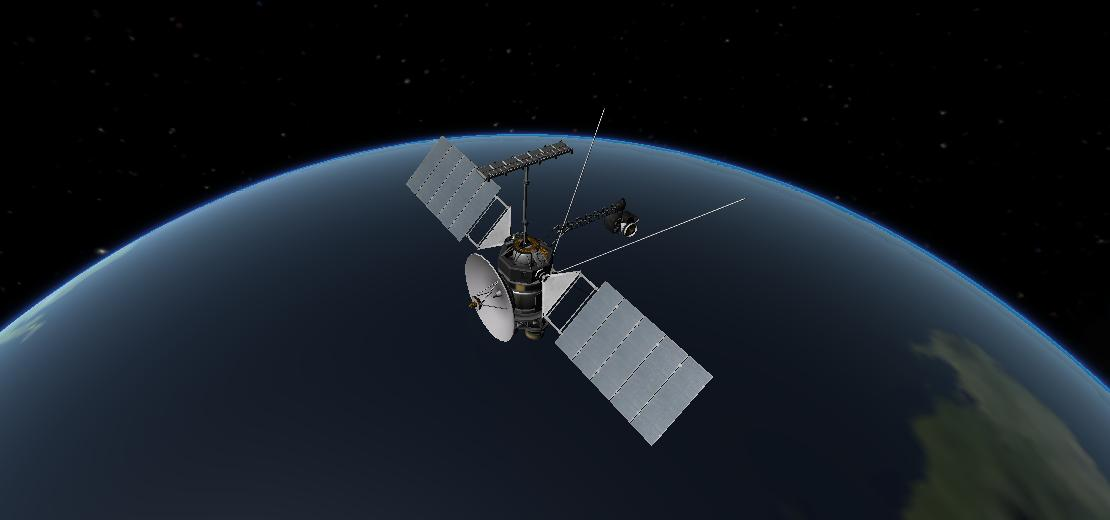antenna: (555, 196, 749, 274), (552, 106, 609, 256), (463, 251, 519, 344)
body: (496, 230, 555, 333)
solar: (553, 279, 716, 448), (403, 133, 503, 244)
thruster: (523, 328, 547, 344)
